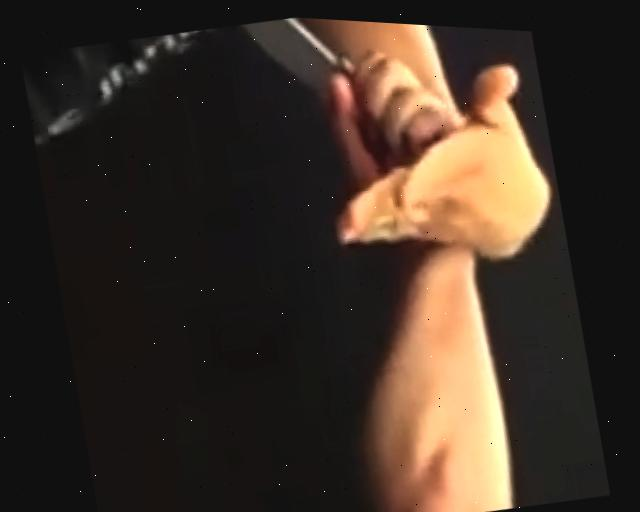pocket-knife: (217, 10, 469, 205)
